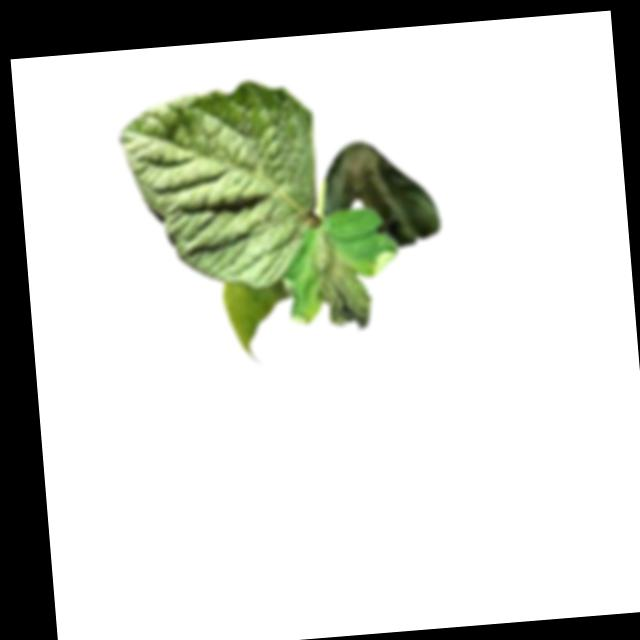Late_blight: (317, 133, 442, 254), (301, 224, 375, 335), (219, 279, 298, 367)
healthy: (112, 74, 327, 298)
